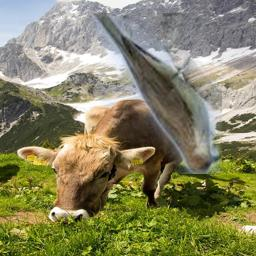Cuckoo: (92, 13, 222, 174)
